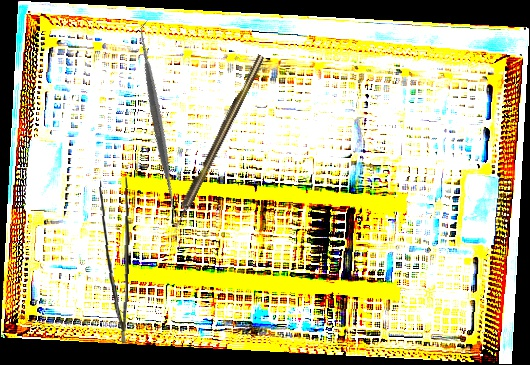Hook Surgical: (167, 53, 267, 235)
Spatula Surgical: (57, 18, 258, 220)
Tissue Forceps: (94, 174, 132, 344)
